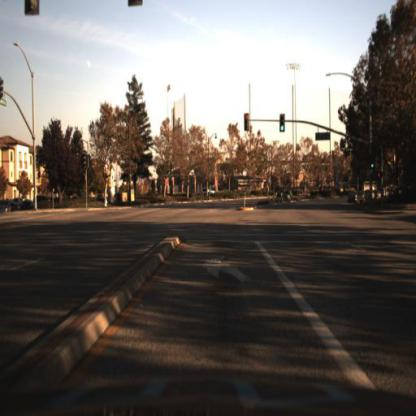car: (200, 186, 221, 200), (281, 188, 293, 202), (275, 189, 285, 202)
trafficLight-Green: (280, 113, 287, 134), (279, 121, 287, 139), (370, 154, 378, 172), (368, 161, 376, 175)
trafficLight-Red: (376, 169, 384, 183)
trafficLight-RedLeft: (242, 111, 252, 137), (244, 114, 250, 127)
